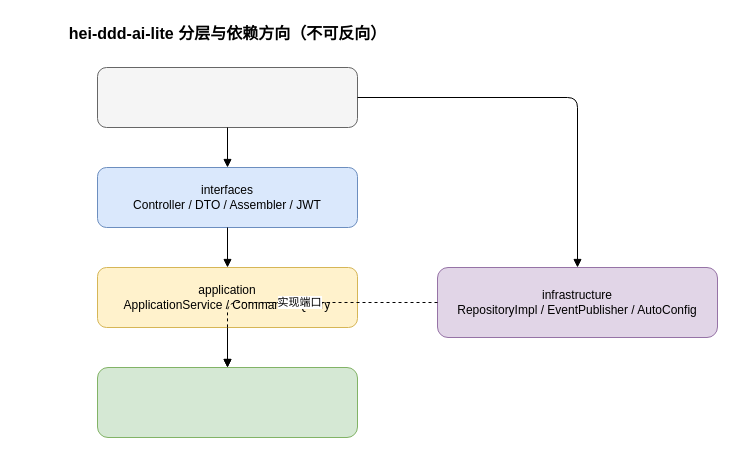
Image size: 735x455. Some labels were removed from this diagram. Here are the shapes that lost their labels. From the top down, the box of each, then its label:
(96, 66, 358, 128): bootstrap 启动组装 / 组件扫描
(96, 366, 358, 438): domain Entity / VO / Aggregate / Event / Ports
